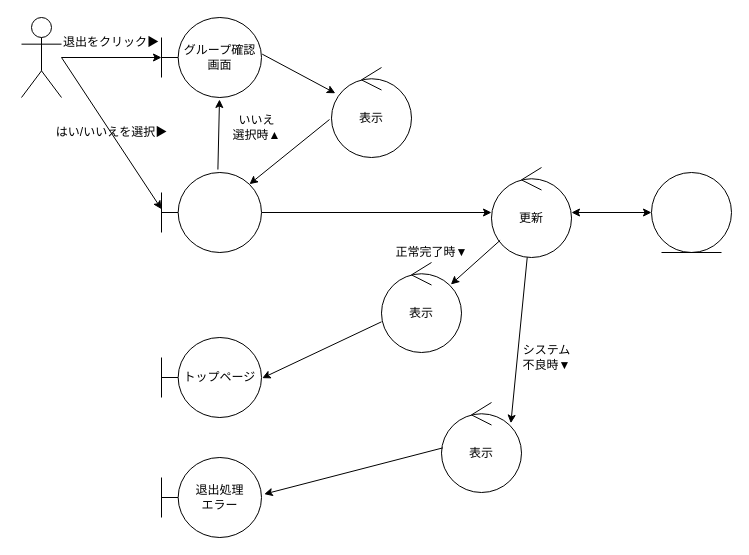
Some shapes in this 749 by 555 pixel diagram are drawn without their labels. The shapes that lost their labels are listed below. From the top down, each one's centre as x and y in pixels, then its label:
At (x=41, y=57): "ユーザー".
At (x=211, y=212): "退出 ダイアログ".
At (x=691, y=212): "グループ".
